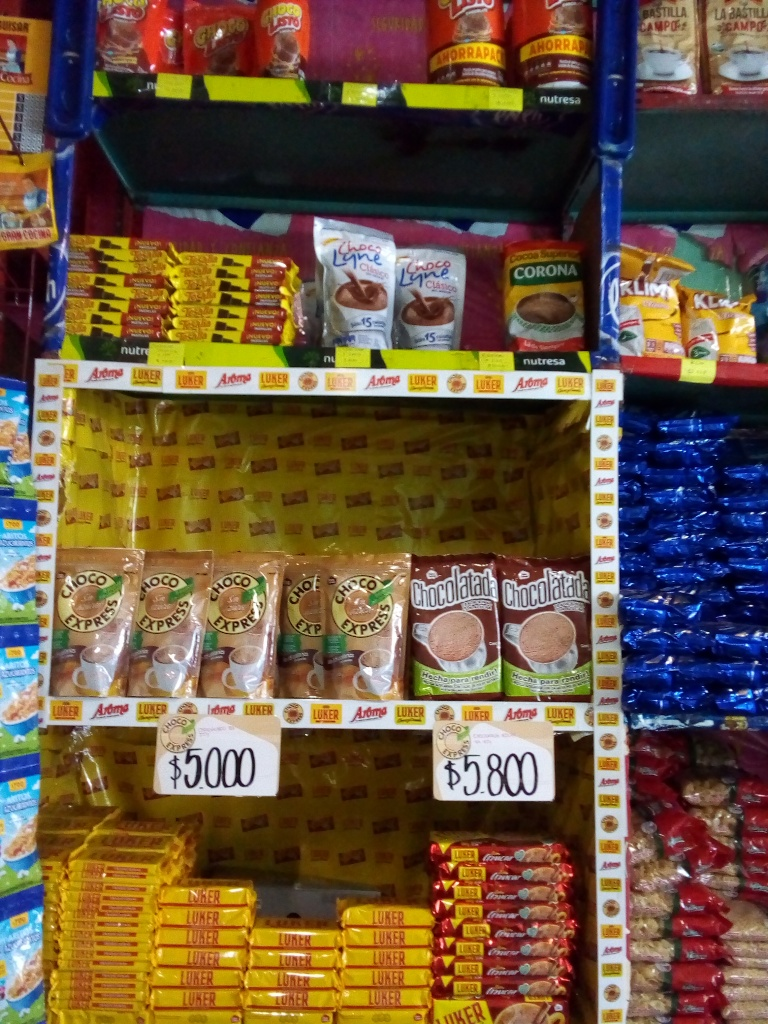COL0170103TRR00100: (507, 2, 591, 91)
